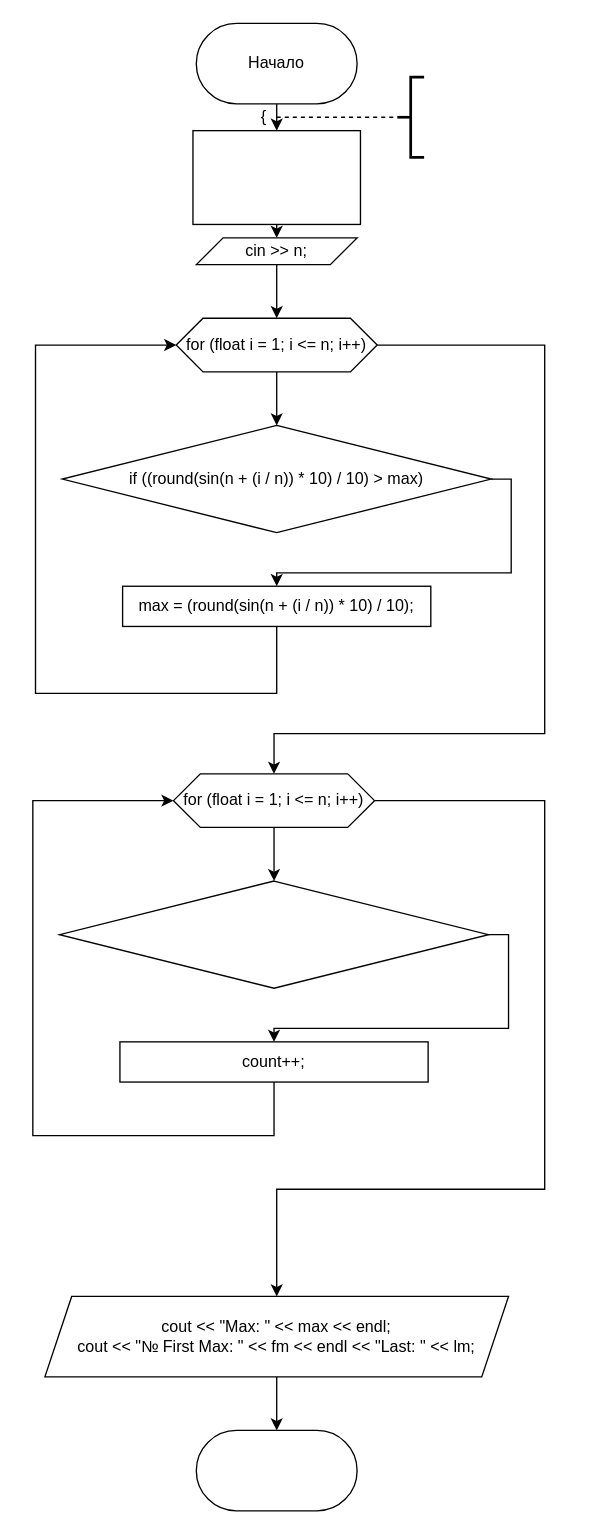
The diagram is 607 pixels wide and 1534 high, and some of its shapes have lost their labels. The centre of each missing label's shape, as x and y in pixels:
#include <iostream> using namespace std; int main(): point (410, 116)
float n, max; int count = 0; max = -1;: point (276, 176)
if ((round(sin(n + (i / n)) * 10) / 10) == max): point (273, 934)
Конец: point (276, 1470)
